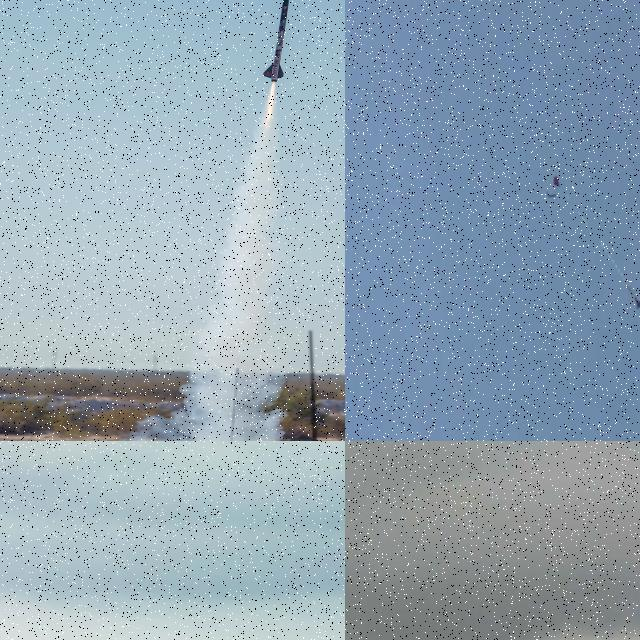Rocket: (263, 0, 289, 82), (634, 295, 640, 310)
